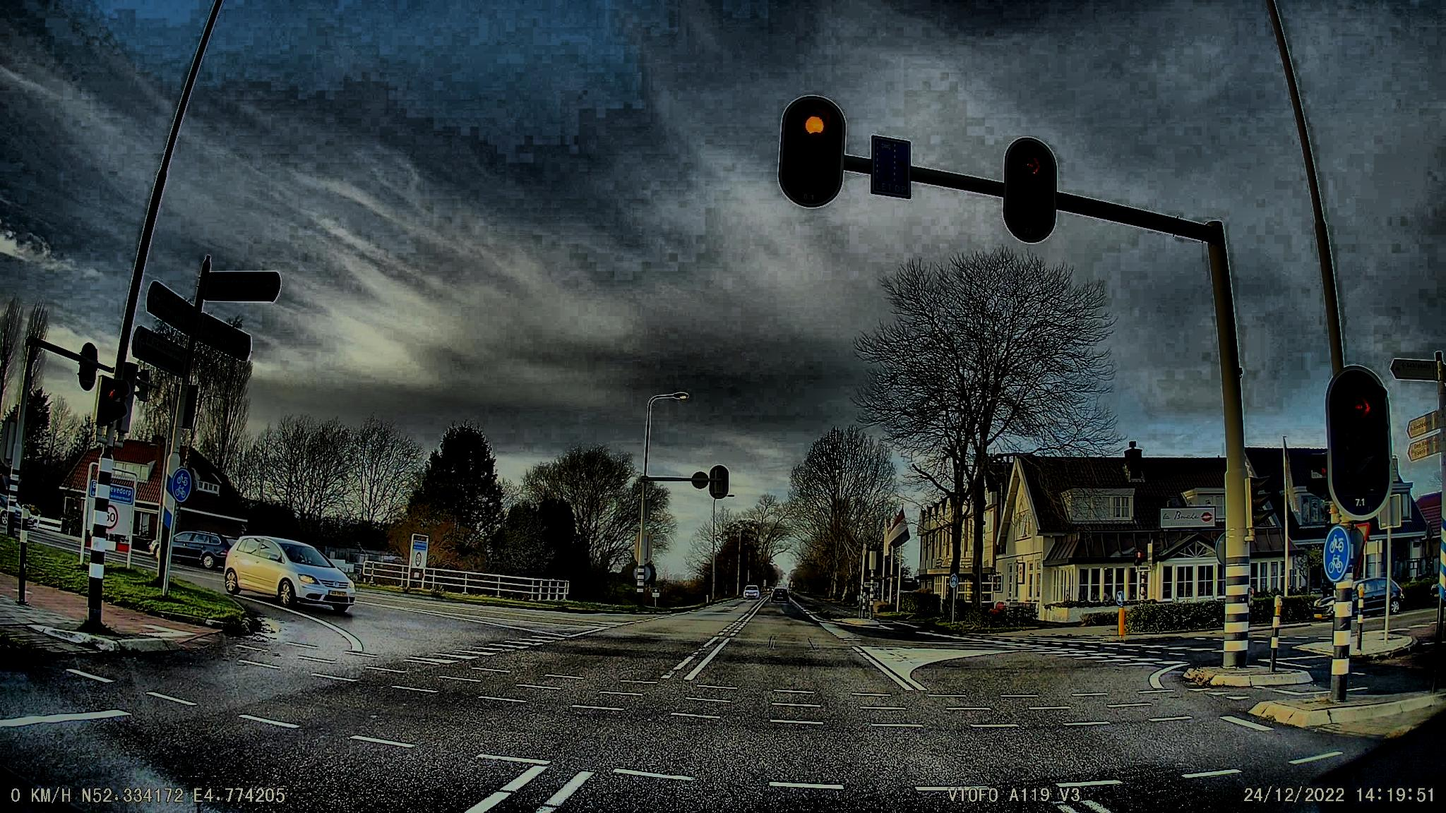Roads: (0, 605, 1446, 813)
